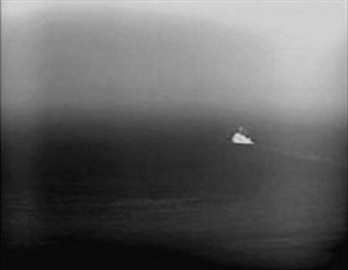Target: (232, 133, 254, 143)
